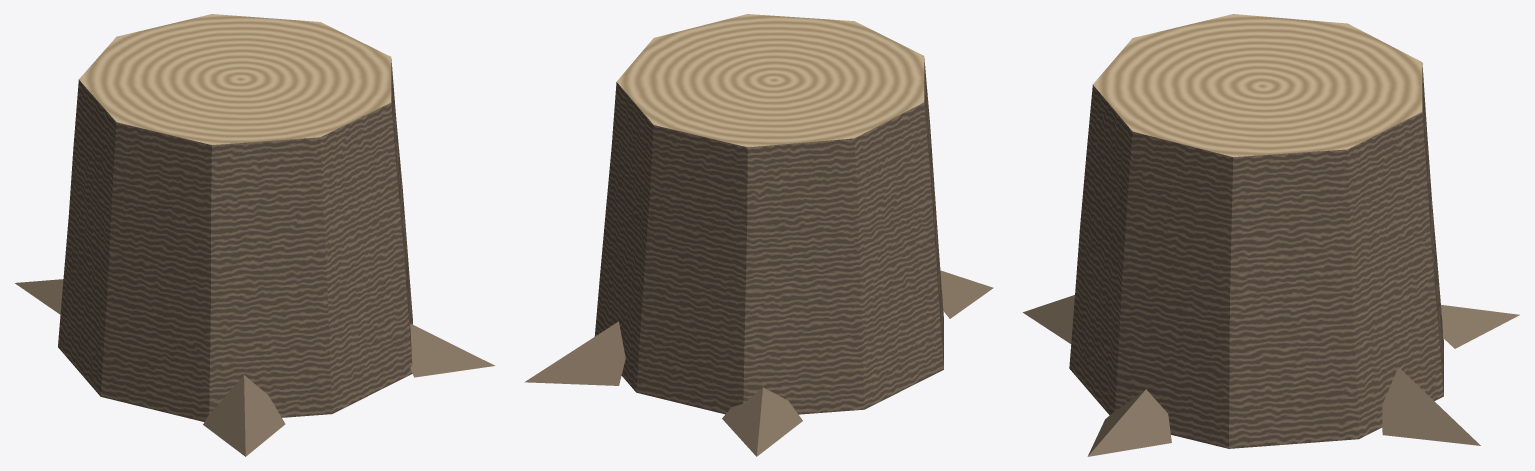
File: 그루터기_01.fbx
3 views of the same model, side by side, from view 1: azimuth 30°, elevation 25°; view 2: azimuth 150°, elevation 25°; view 3: azimuth 270°, elevation 25° (orthographic). The views are drawn at different scales.
Parts seen in each view (by area): view 1: 그루터기_01; view 2: 그루터기_01; view 3: 그루터기_01.
Boxes of the visible parts, bbox=[...] form: 그루터기_01: bbox=[15, 14, 495, 456]; 그루터기_01: bbox=[524, 14, 993, 456]; 그루터기_01: bbox=[1023, 14, 1519, 456].
Size of the model in its own units: 654 by 513 by 816.
